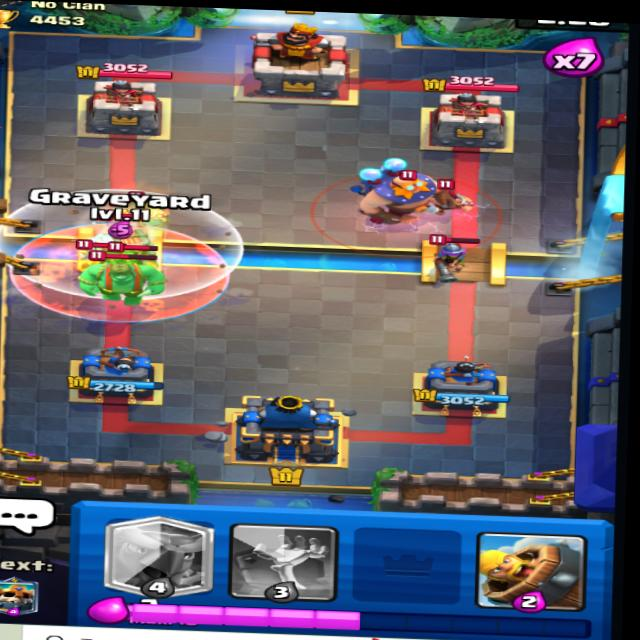electro-barbarians: (422, 183, 480, 222), (116, 188, 172, 225)
electro-giant: (346, 160, 465, 231)
goblin-giant: (77, 244, 168, 312)
musketeer: (421, 229, 483, 278)
sparky: (72, 219, 167, 259)
